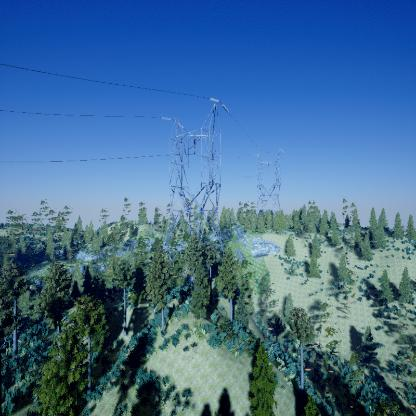tower: (158, 93, 229, 264), (251, 143, 286, 219)
